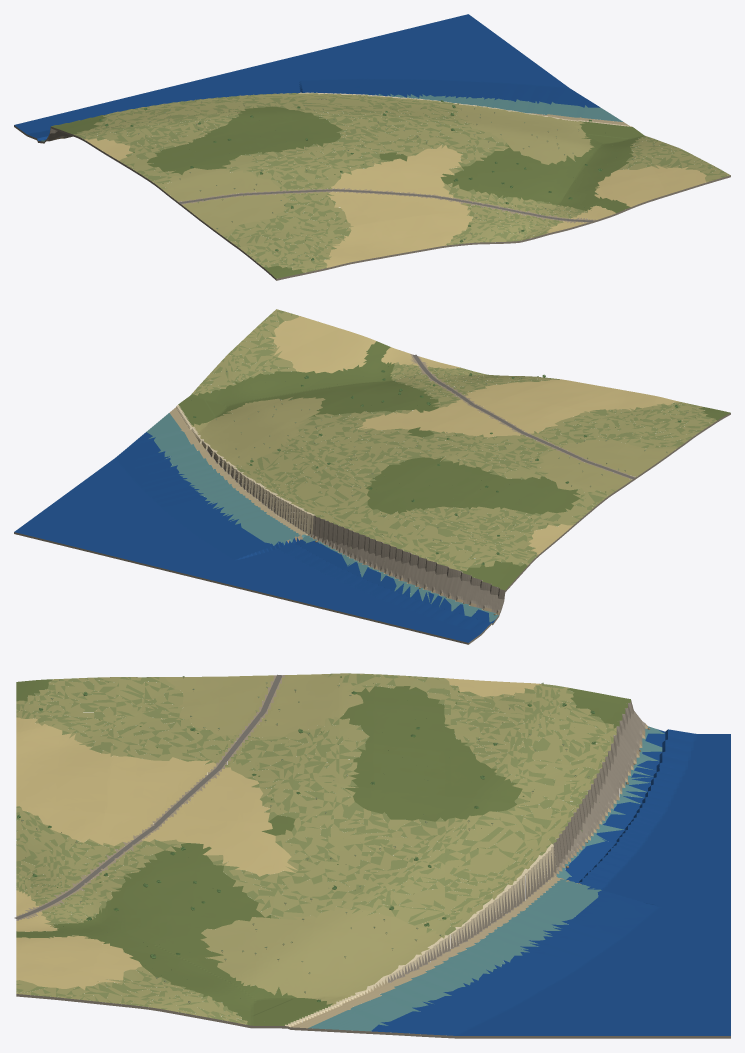
File: parca_+9_+2-yakin.glb
The picture shows the model from 3 angles, top to bottom: view 1: azimuth 30°, elevation 25°; view 2: azimuth 150°, elevation 25°; view 3: azimuth 270°, elevation 25°; orthographic projection. The views are drawn at different scales.
Visible parts, largest first — view 1: parca_+9_+2_arazi, parca_+9_+2_yollar, parca_+9_+2_bitkiler; view 2: parca_+9_+2_arazi, parca_+9_+2_yollar, parca_+9_+2_bitkiler; view 3: parca_+9_+2_arazi, parca_+9_+2_yollar, parca_+9_+2_bitkiler.
Boxes of the visible parts, x1=… form: parca_+9_+2_arazi: x1=14, y1=14, x2=730, y2=280; parca_+9_+2_yollar: x1=179, y1=189, x2=593, y2=221; parca_+9_+2_bitkiler: x1=84, y1=96, x2=654, y2=260; parca_+9_+2_arazi: x1=14, y1=309, x2=730, y2=644; parca_+9_+2_yollar: x1=413, y1=354, x2=634, y2=478; parca_+9_+2_bitkiler: x1=191, y1=366, x2=695, y2=564; parca_+9_+2_arazi: x1=16, y1=673, x2=730, y2=1038; parca_+9_+2_yollar: x1=14, y1=674, x2=282, y2=919; parca_+9_+2_bitkiler: x1=17, y1=676, x2=599, y2=1021.
Bounding box in the file's own units: 1001 × 109 × 1003.
